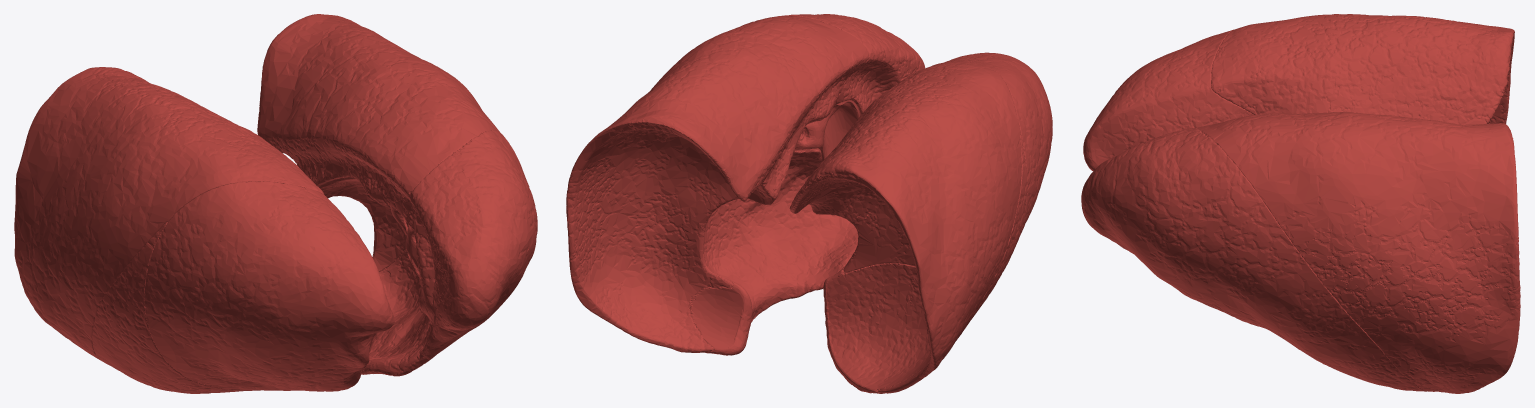
Rendered from lungs.glb.
The picture shows the model from 3 angles, left to right: view 1: azimuth 30°, elevation 25°; view 2: azimuth 150°, elevation 25°; view 3: azimuth 270°, elevation 25°; orthographic projection. The views are drawn at different scales.
Size of the model in its own units: 253 by 181 by 259.
